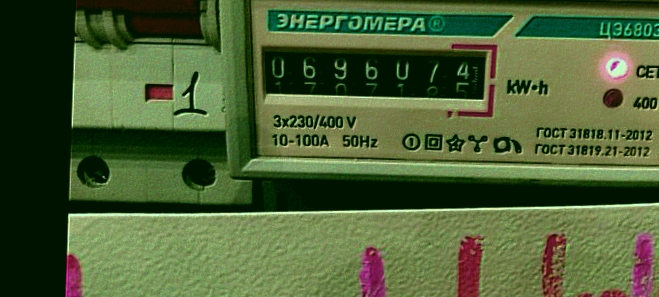0: (266, 53, 286, 79), (393, 55, 410, 81)
4: (455, 56, 471, 80)
5: (454, 80, 469, 98)
6: (299, 52, 319, 80), (361, 56, 379, 80)
7: (422, 57, 441, 83)
9: (329, 54, 349, 80)
screen: (247, 31, 502, 120)
